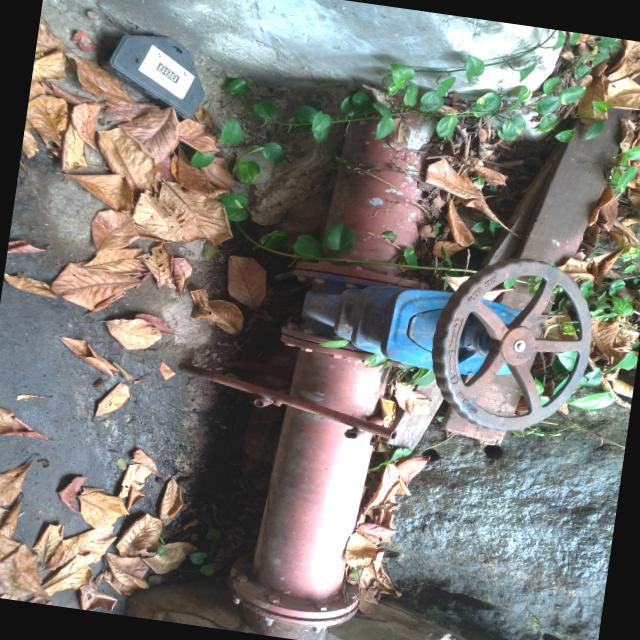gas: (240, 98, 447, 634)
